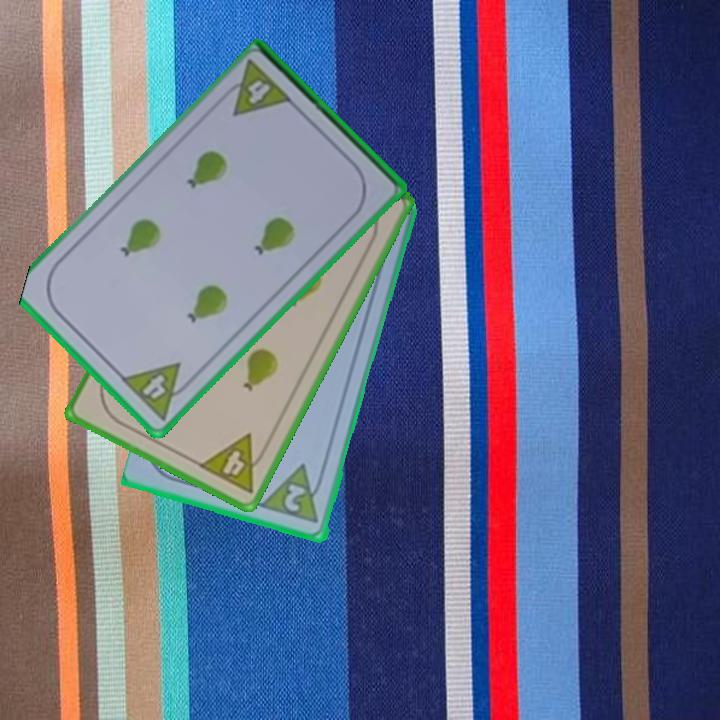2p: (259, 461, 328, 527)
4p: (117, 359, 198, 424), (195, 430, 273, 497), (216, 57, 296, 119)
